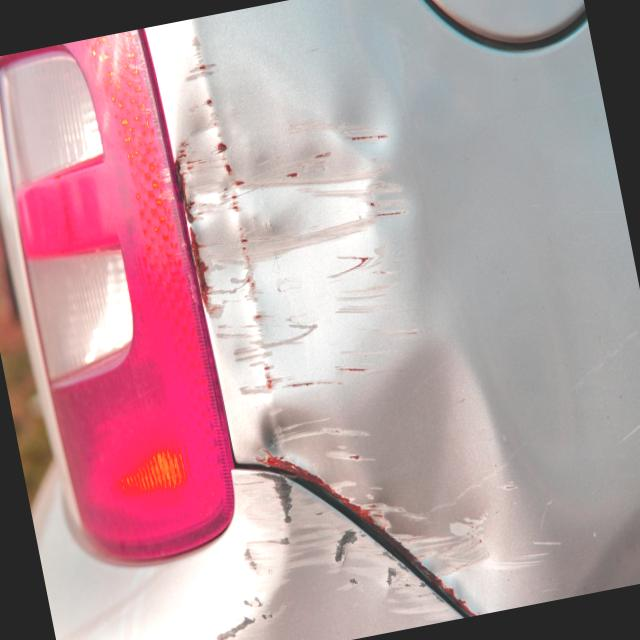Cabossage: (332, 327, 518, 577), (164, 107, 284, 454), (190, 138, 389, 273), (324, 66, 440, 263)
Rayure: (163, 10, 569, 640), (189, 453, 415, 640), (367, 443, 570, 631)
